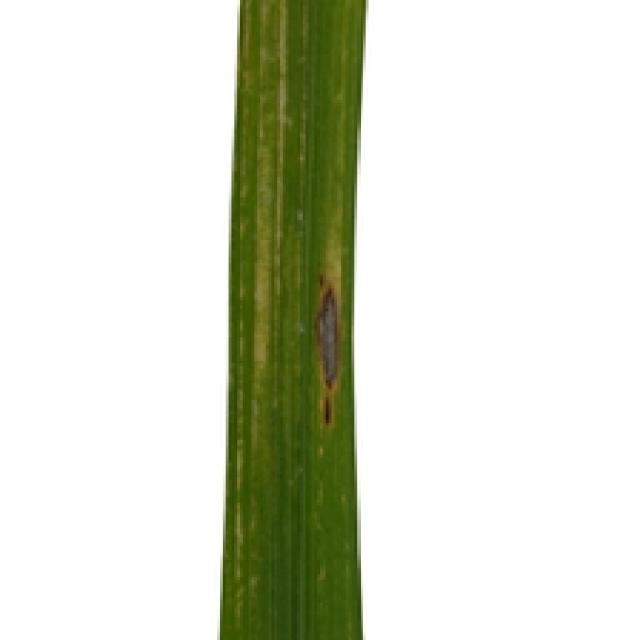Rice___Rice_Blast: (223, 0, 369, 637)
